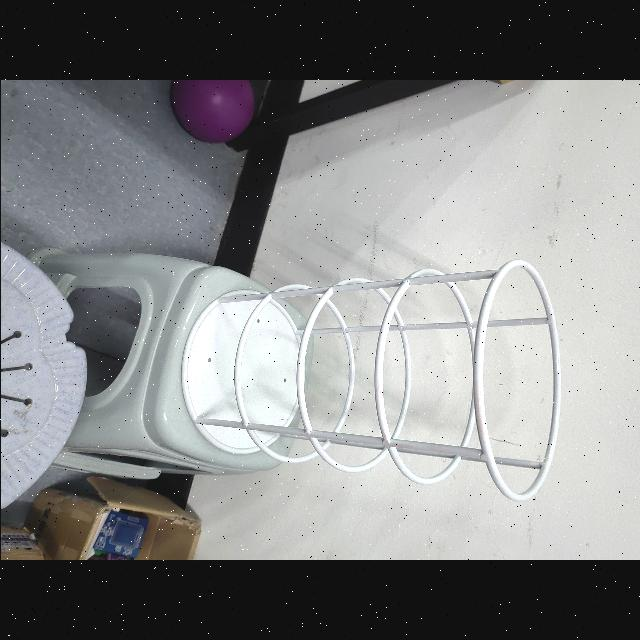S: (178, 258, 564, 502)
